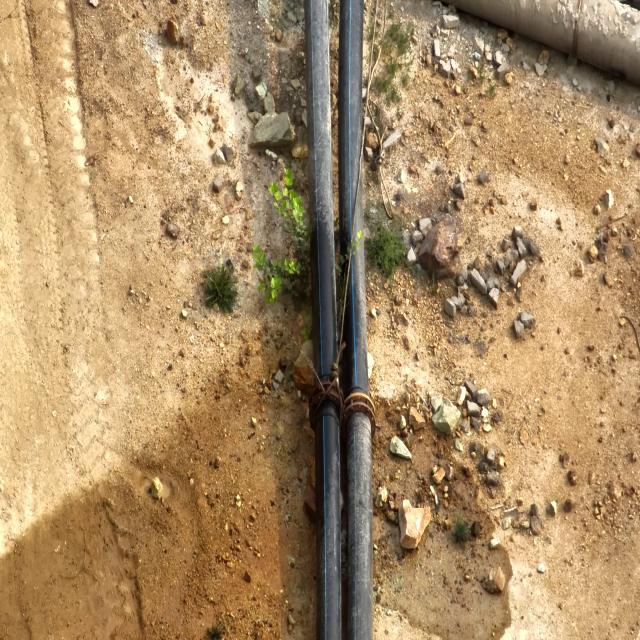leak: (261, 322, 327, 393)
